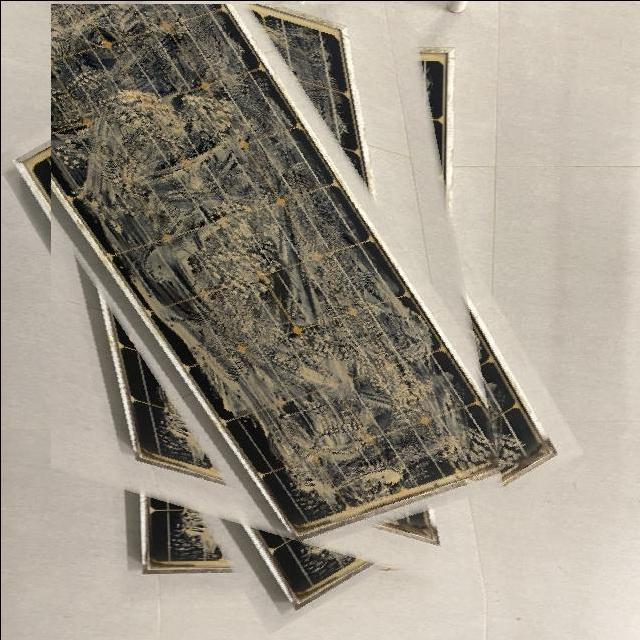Dusty: (49, 2, 510, 519), (250, 13, 352, 146), (161, 393, 214, 466), (174, 506, 230, 560)
